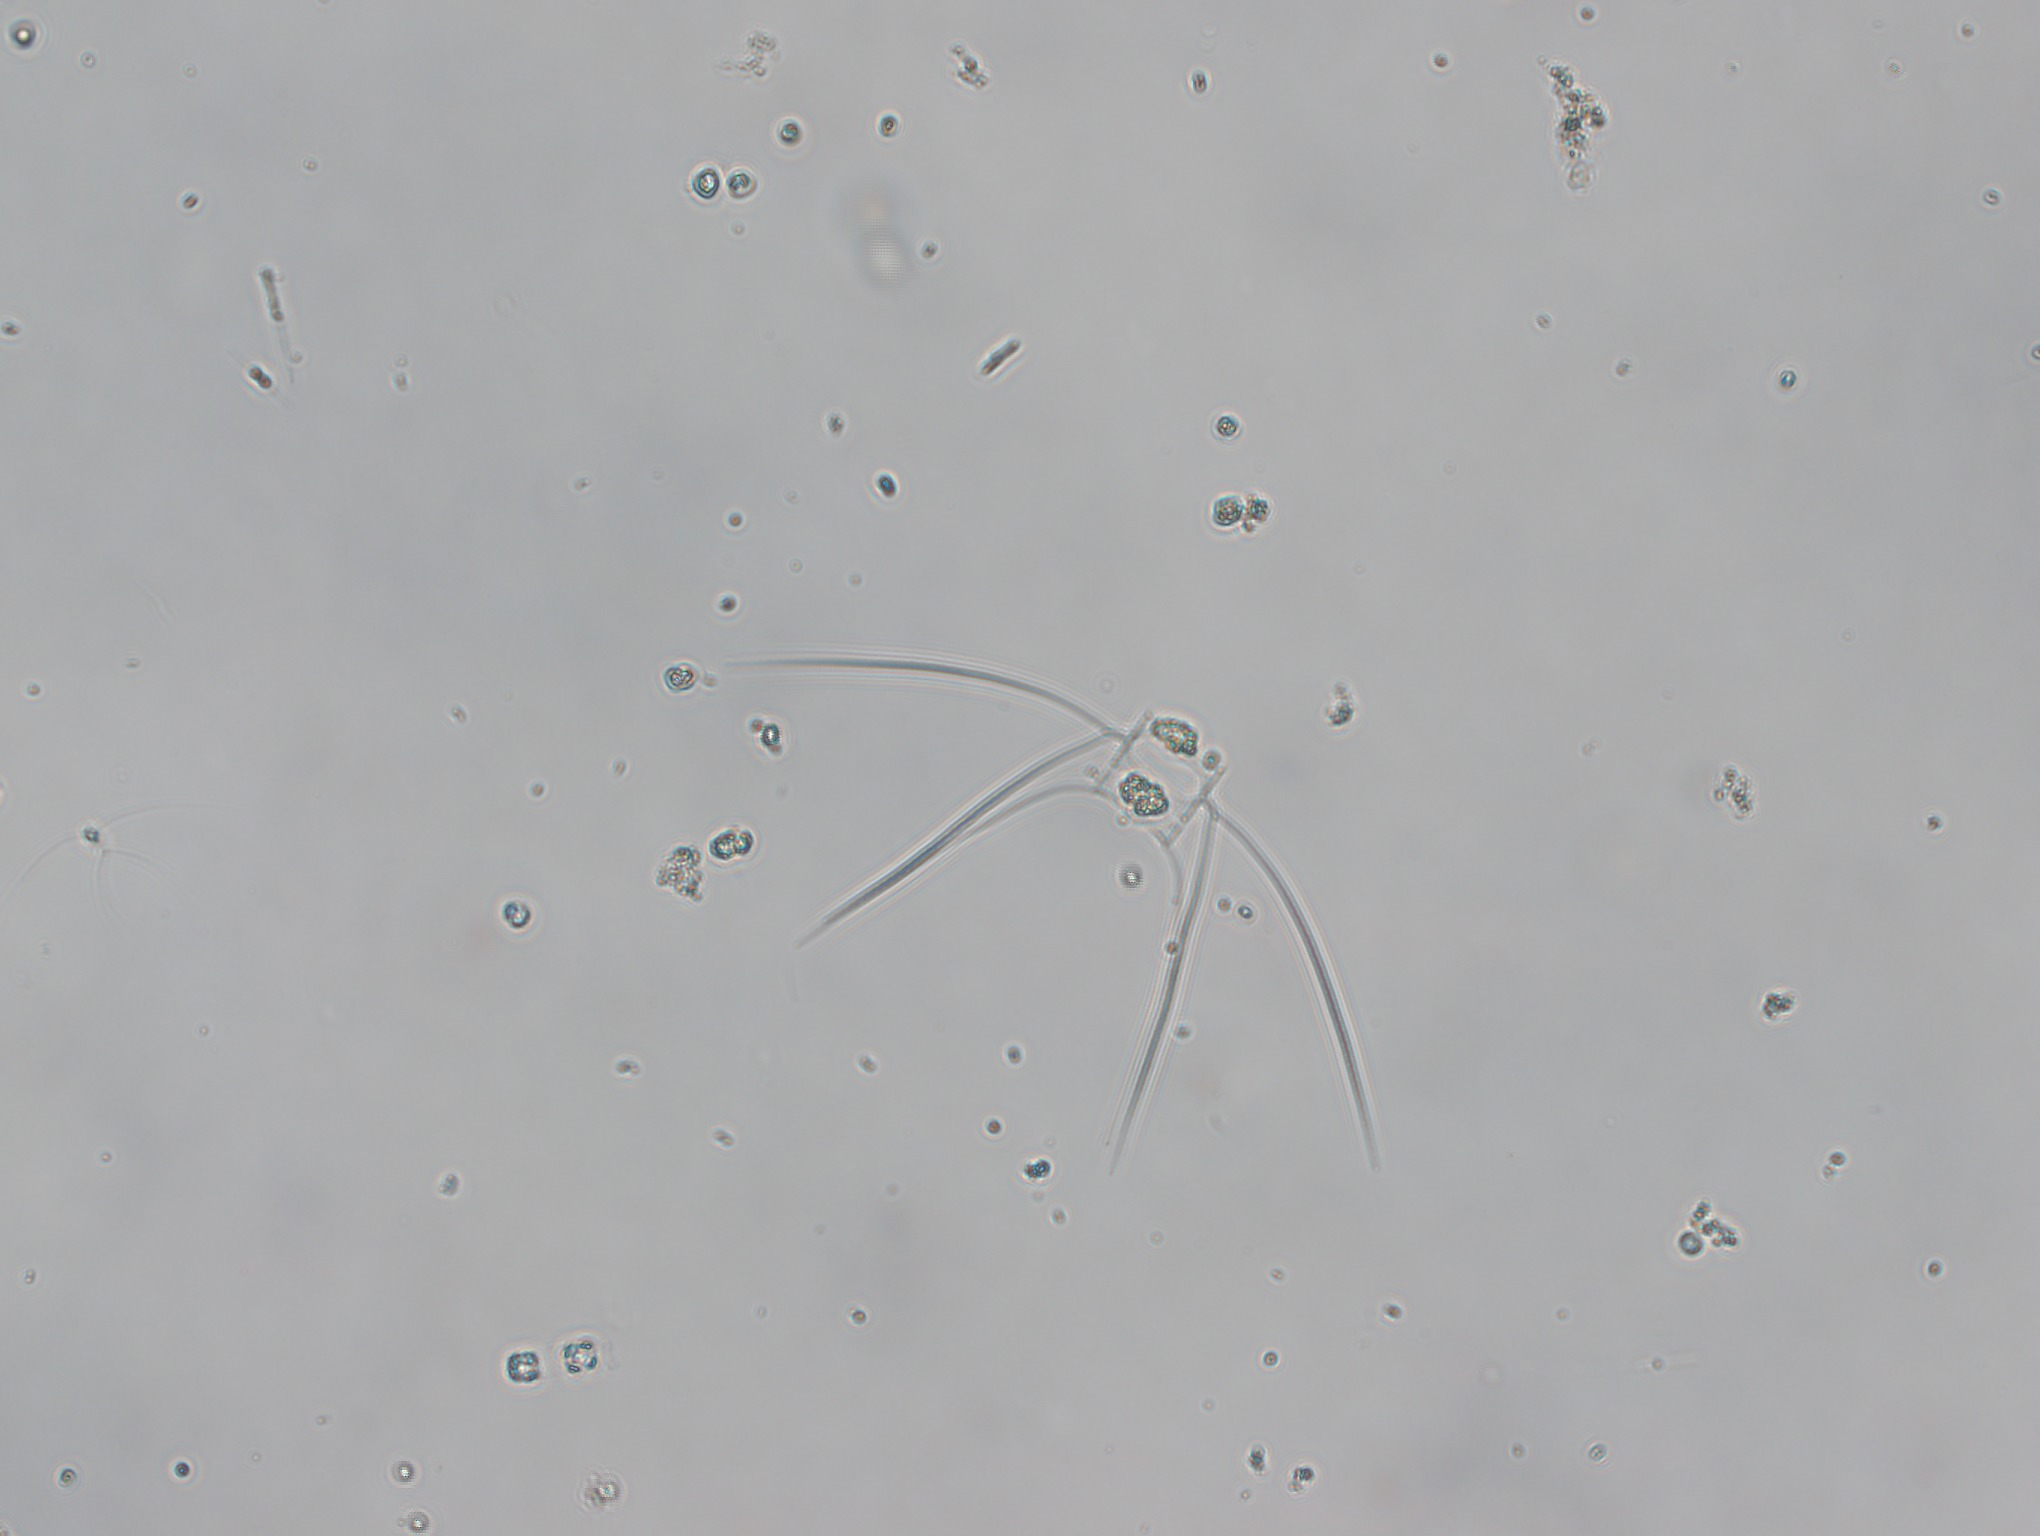chaetoceros: (755, 660, 1382, 1184)
